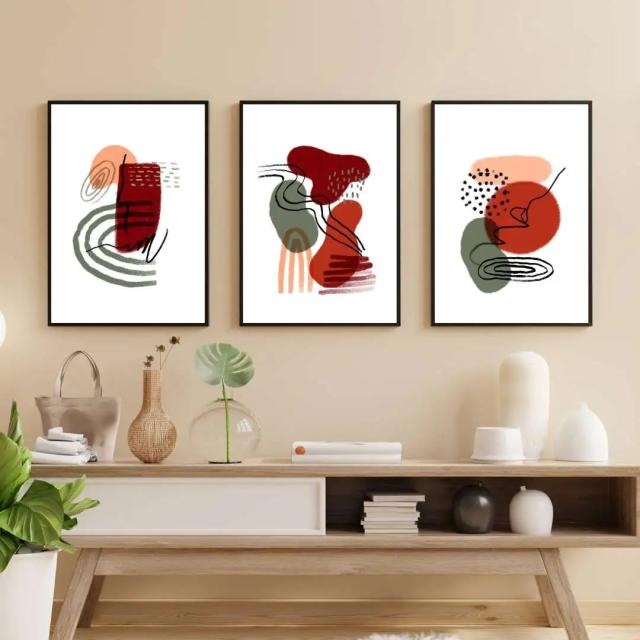painting: (241, 99, 400, 325), (49, 100, 207, 326), (433, 100, 591, 326)
